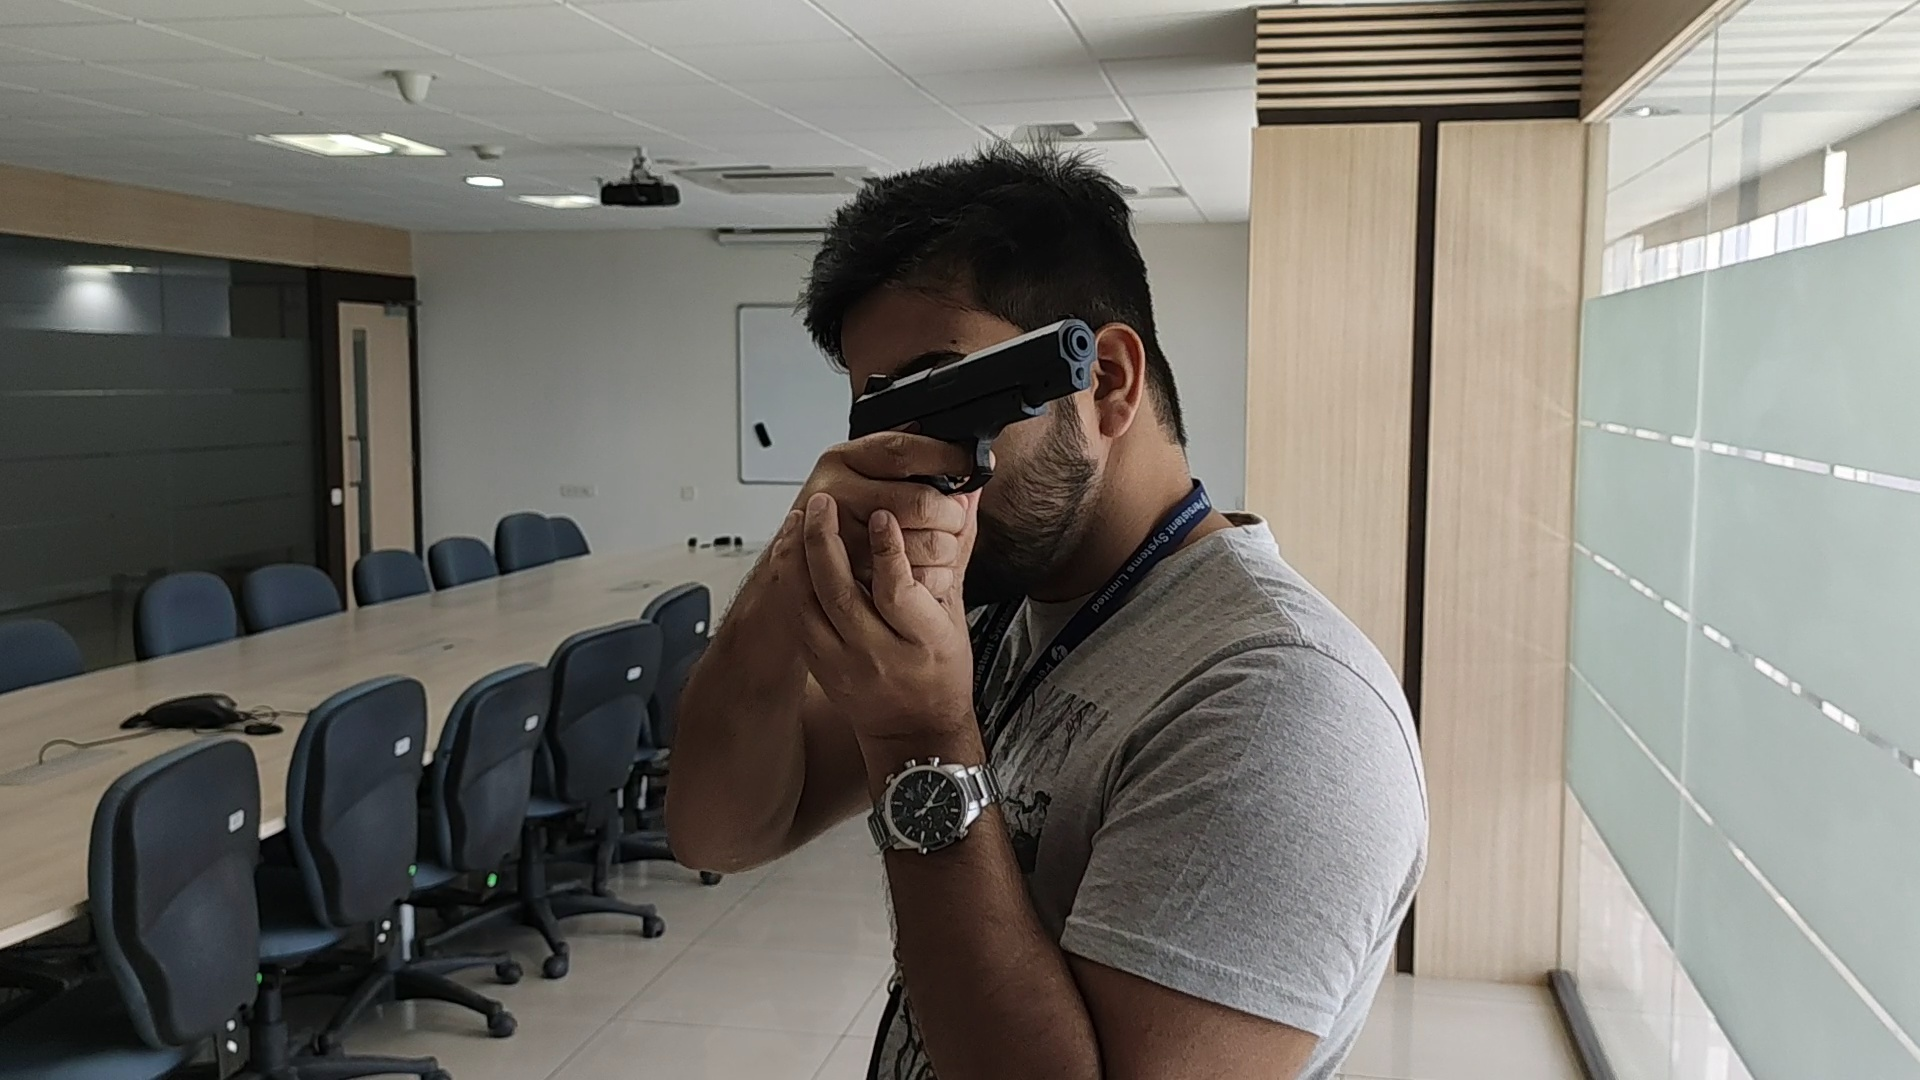gun: (855, 319, 1095, 426)
